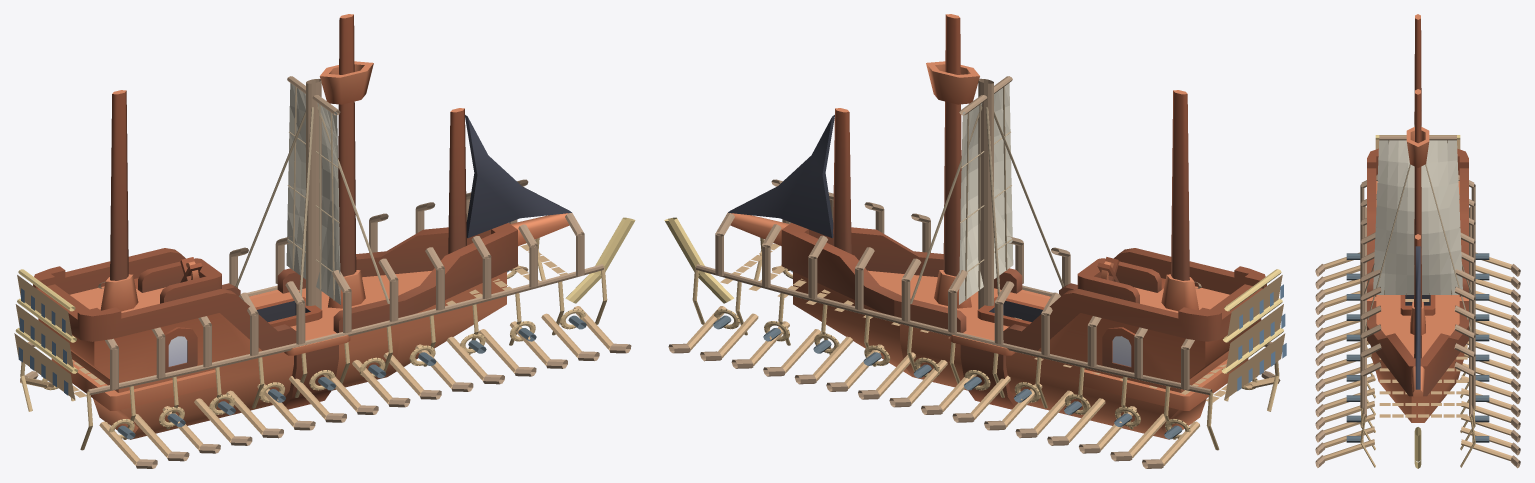
File: panokseon-custom.glb
The picture shows the model from 3 angles, left to right: view 1: azimuth 30°, elevation 25°; view 2: azimuth 150°, elevation 25°; view 3: azimuth 270°, elevation 25°; orthographic projection. The views are drawn at different scales.
Visible parts, largest first — view 1: ship-pirate-medium, panokseon-custom-geometry; view 2: ship-pirate-medium, panokseon-custom-geometry; view 3: panokseon-custom-geometry, ship-pirate-medium.
Boxes of the visible parts, x1,y1,x2,y2 form: ship-pirate-medium: (33, 14, 571, 439); panokseon-custom-geometry: (14, 76, 635, 468); ship-pirate-medium: (727, 14, 1266, 439); panokseon-custom-geometry: (664, 76, 1286, 468); panokseon-custom-geometry: (1315, 124, 1520, 468); ship-pirate-medium: (1367, 14, 1468, 422).
Size of the model in its own units: 38.82 by 22.64 by 13.99.
9 materials, 1 textured.
